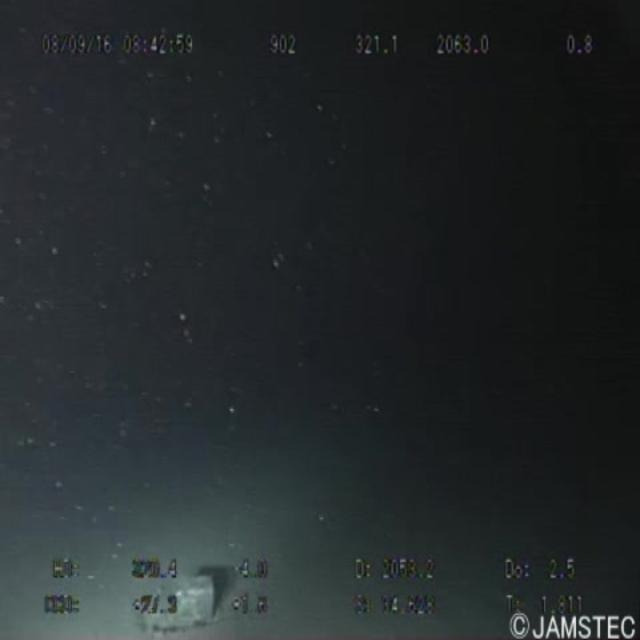Glass: (126, 563, 247, 640)
